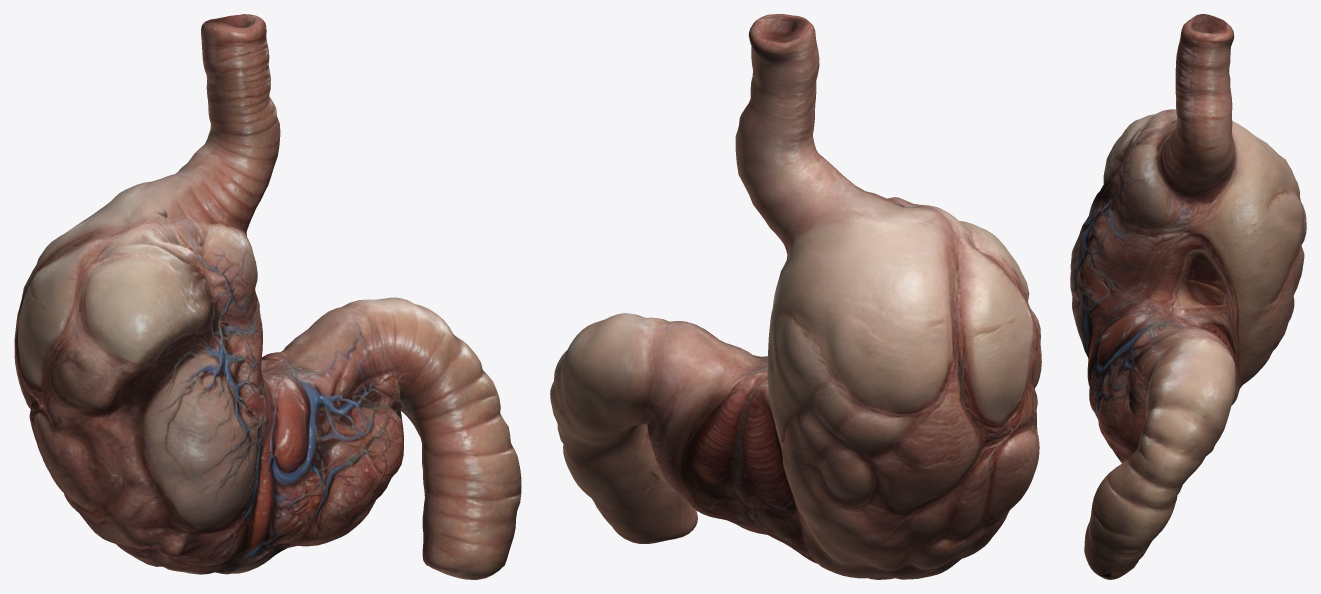
Rendered from lambung.glb.
3 renders of one model, left to right at view 1: azimuth 30°, elevation 25°; view 2: azimuth 150°, elevation 25°; view 3: azimuth 270°, elevation 25°, orthographic. The views are drawn at different scales.
Parts seen in each view (by area): view 1: Mesh1_Mesh1.114; view 2: Mesh1_Mesh1.114; view 3: Mesh1_Mesh1.114.
Part boxes in pixels (x1,y1,x2,y2): Mesh1_Mesh1.114: (14,14,521,579); Mesh1_Mesh1.114: (550,14,1041,579); Mesh1_Mesh1.114: (1070,14,1306,579).
Size of the model in its own units: 1.66 by 1.99 by 0.8961.
Materials: 1 (1 with a texture image).
